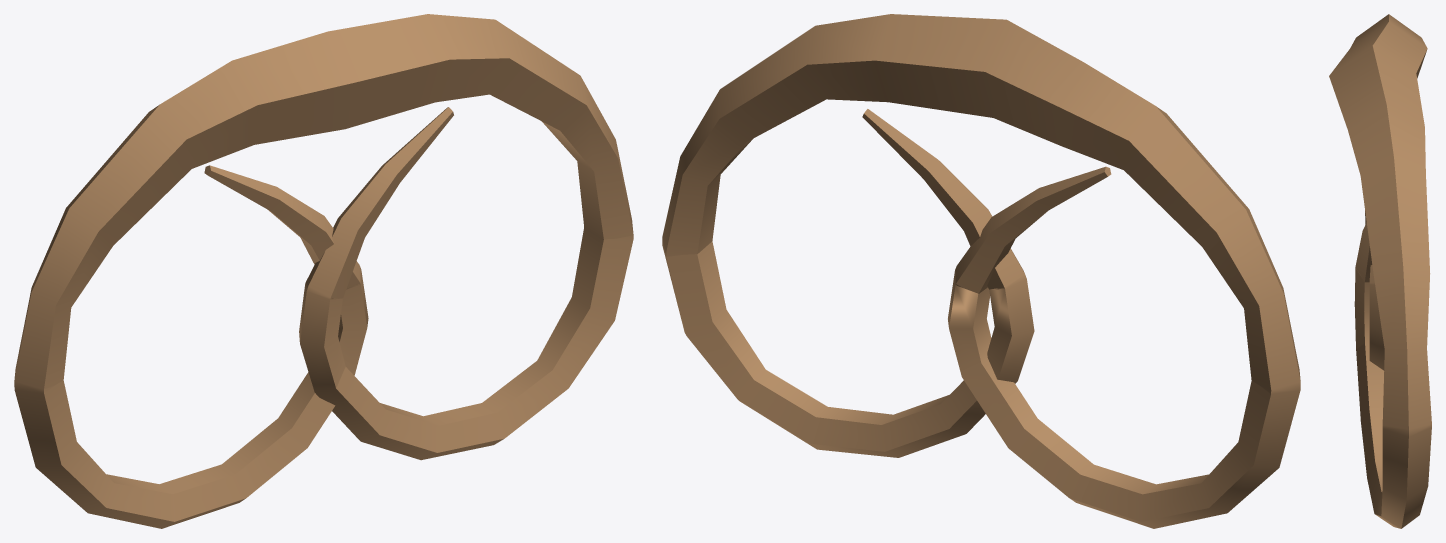
File: SM_pretzel_sign.fbx
The picture shows the model from 3 angles, left to right: view 1: azimuth 30°, elevation 25°; view 2: azimuth 150°, elevation 25°; view 3: azimuth 270°, elevation 25°; orthographic projection. The views are drawn at different scales.
Parts seen in each view (by area): view 1: Object009; view 2: Object009; view 3: Object009.
Part boxes in pixels (left/top/right/bottom): Object009: left=14, top=14, right=633, bottom=528; Object009: left=662, top=14, right=1300, bottom=528; Object009: left=1329, top=14, right=1431, bottom=528.
Bounding box in the file's own units: 75.74 × 12.33 × 53.61.
